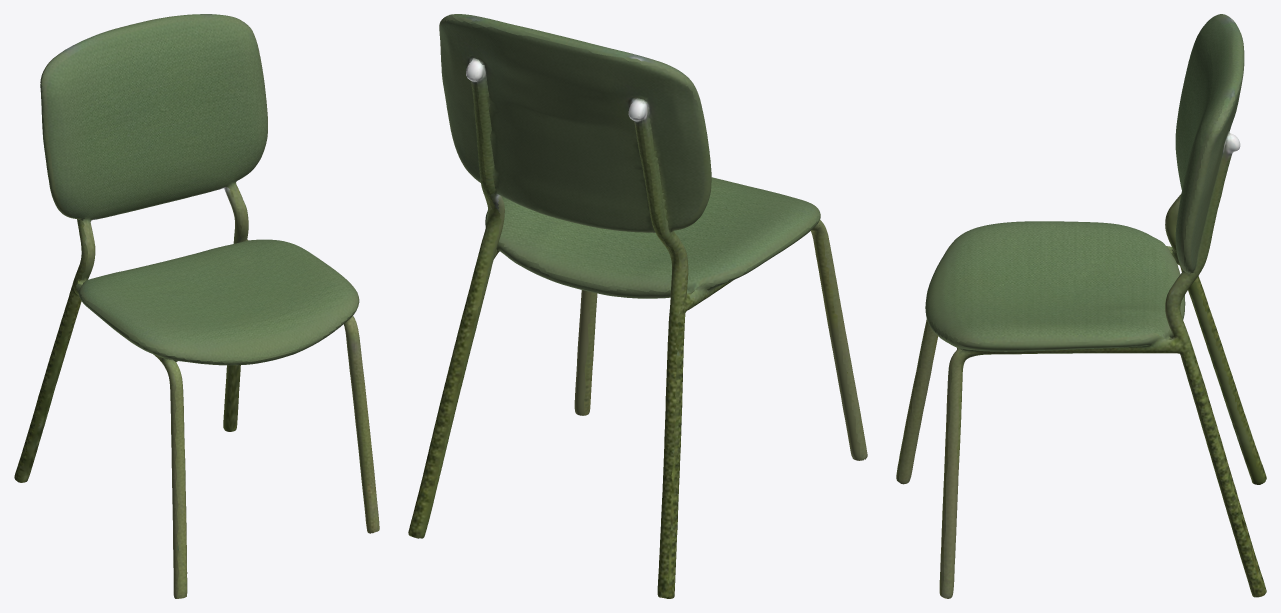
Rendered from chair__chair#5.glb.
3 views of the same model, side by side, from view 1: azimuth 30°, elevation 25°; view 2: azimuth 150°, elevation 25°; view 3: azimuth 270°, elevation 25° (orthographic). The views are drawn at different scales.
Parts seen in each view (by area): view 1: tmpdknurg0r.ply; view 2: tmpdknurg0r.ply; view 3: tmpdknurg0r.ply.
Part boxes in pixels (left/top/right/bottom): tmpdknurg0r.ply: left=14, top=14, right=379, bottom=598; tmpdknurg0r.ply: left=408, top=14, right=867, bottom=598; tmpdknurg0r.ply: left=896, top=14, right=1266, bottom=598.
Bounding box in the file's own units: 1.06 × 1.99 × 1.37.
Materials: 1 (1 with a texture image).
